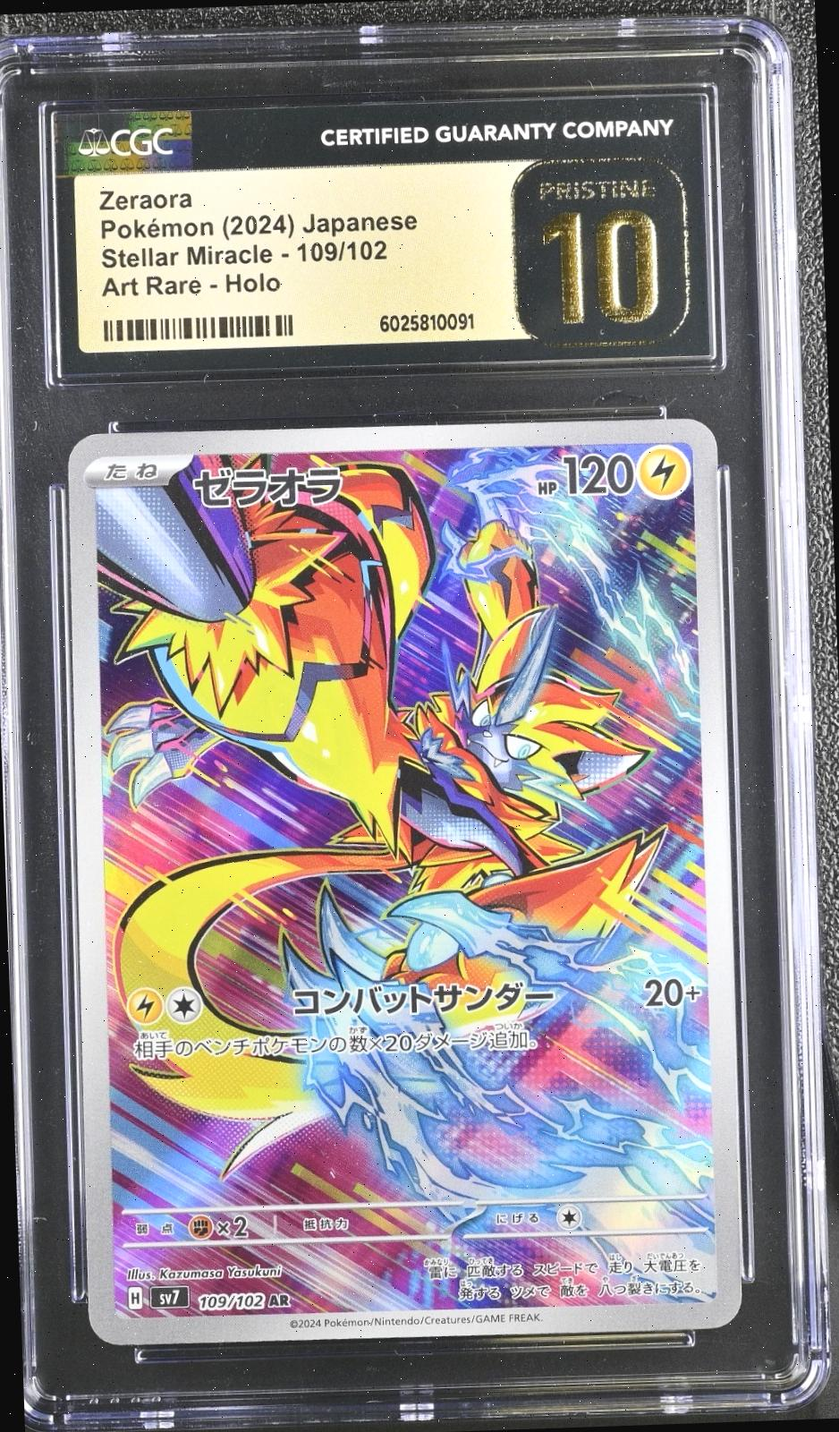card-2UtV: (67, 417, 742, 1346)
